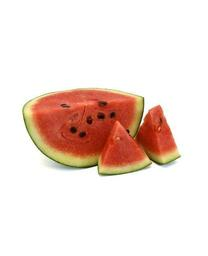watermelon: (21, 85, 183, 178)
